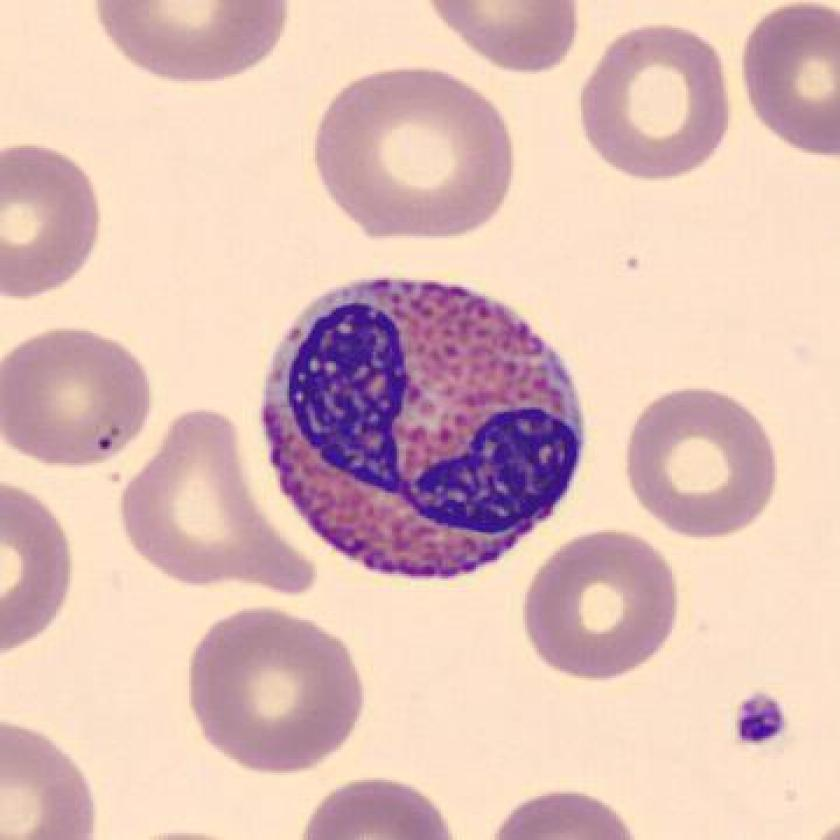eosinophil: (256, 265, 599, 598)
